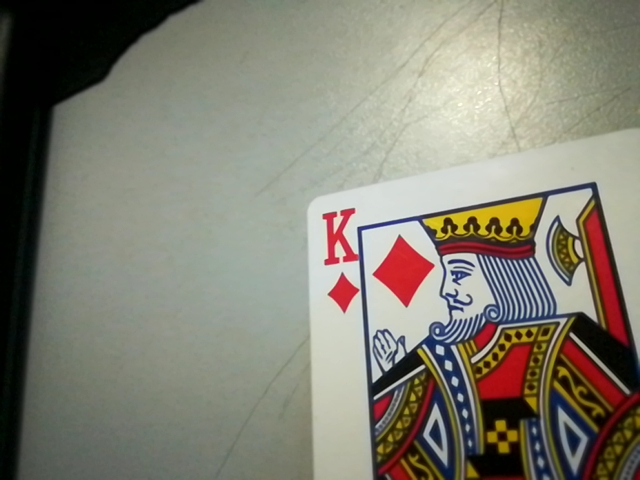fk k: (309, 201, 364, 314)
